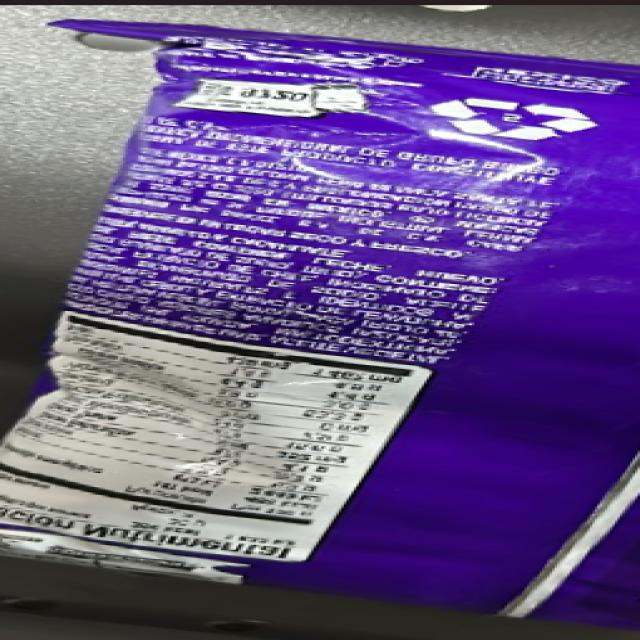productoAtras: (156, 25, 640, 587)
